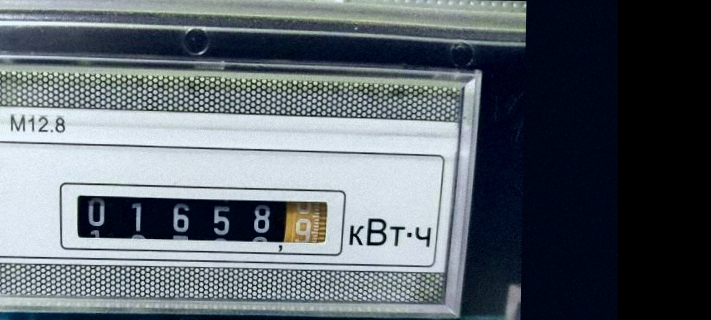0: (85, 196, 105, 226)
1: (128, 200, 145, 232)
5: (210, 203, 231, 234)
6: (170, 199, 190, 233)
8: (251, 201, 271, 233)
9: (291, 216, 312, 244)
screen: (48, 173, 350, 262)
